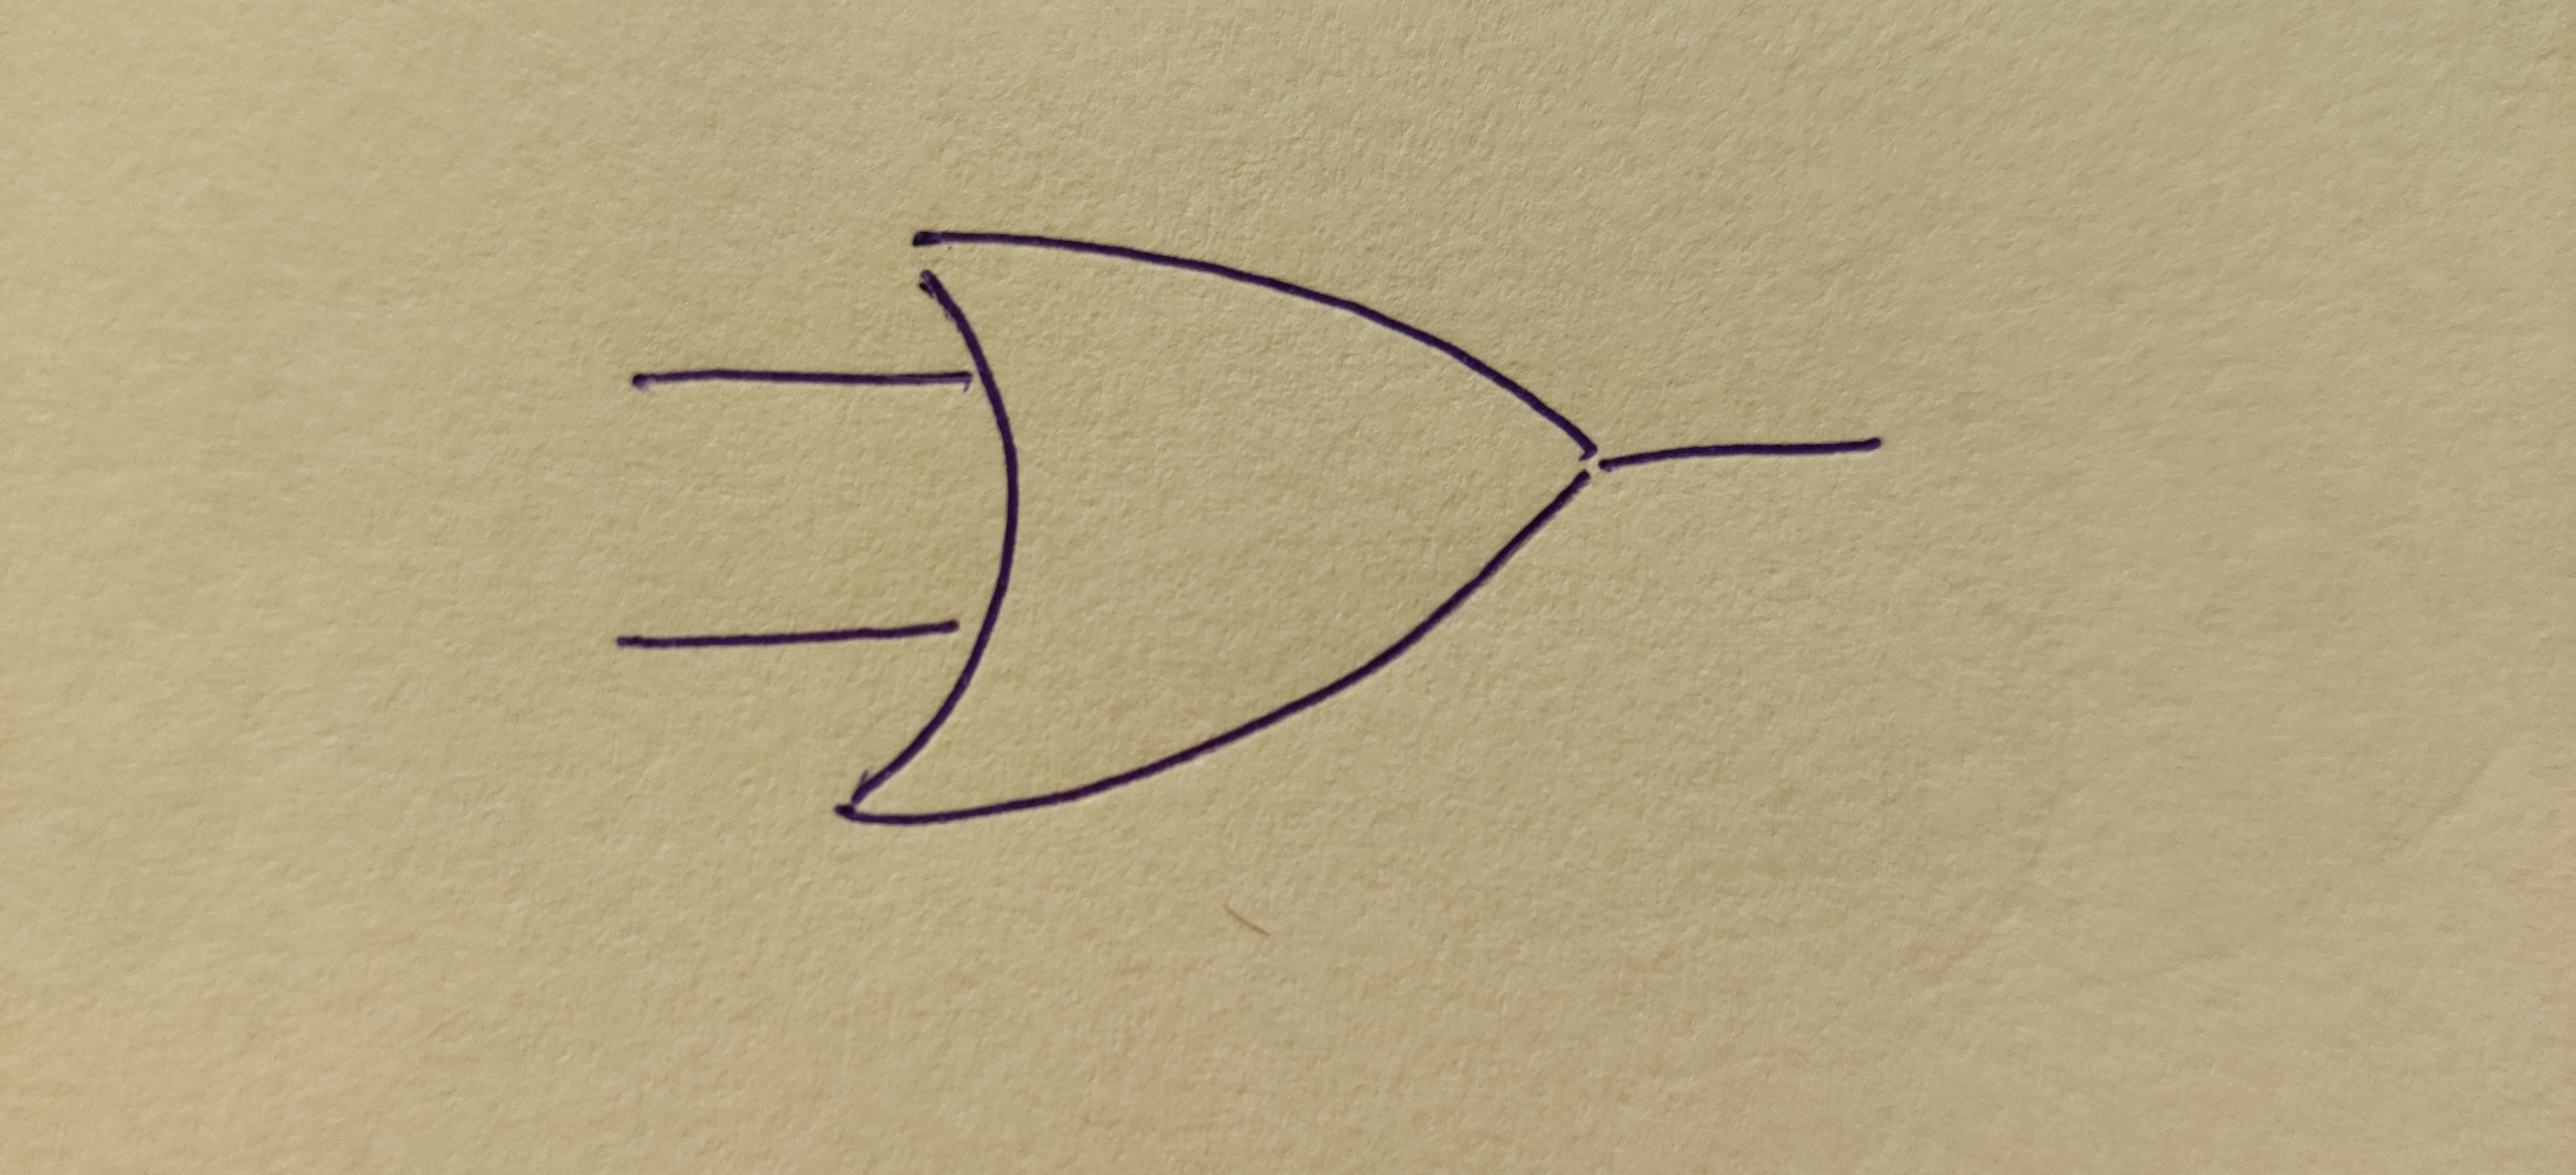or: (838, 228, 1595, 823)
